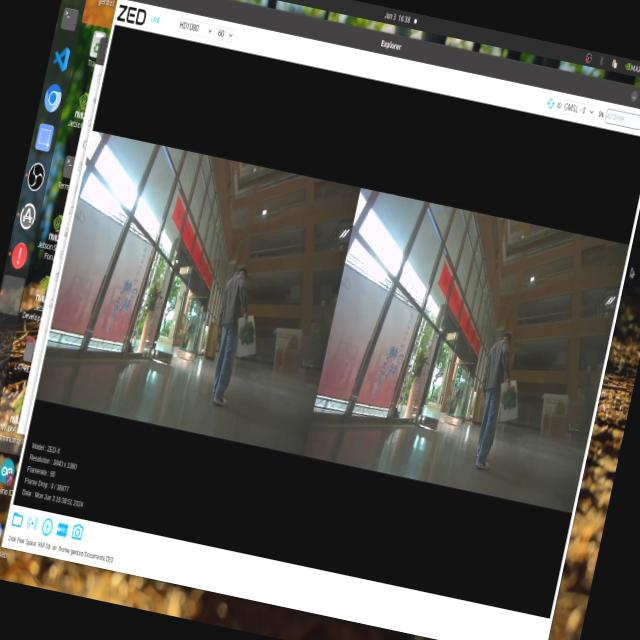green: (234, 312, 260, 355), (494, 380, 520, 417)
